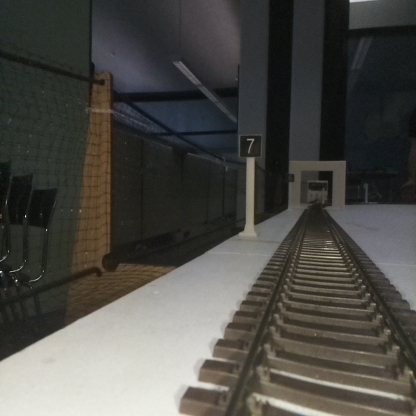black-info-7: (239, 135, 261, 236)
